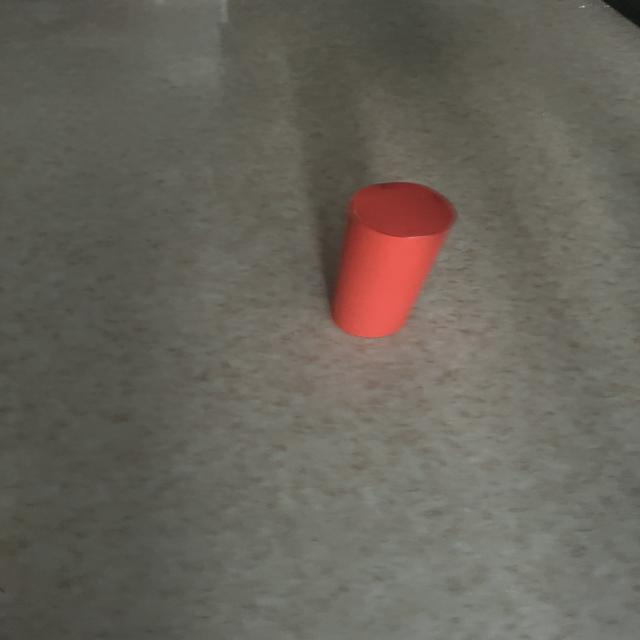przeszkoda: (332, 182, 457, 337)
